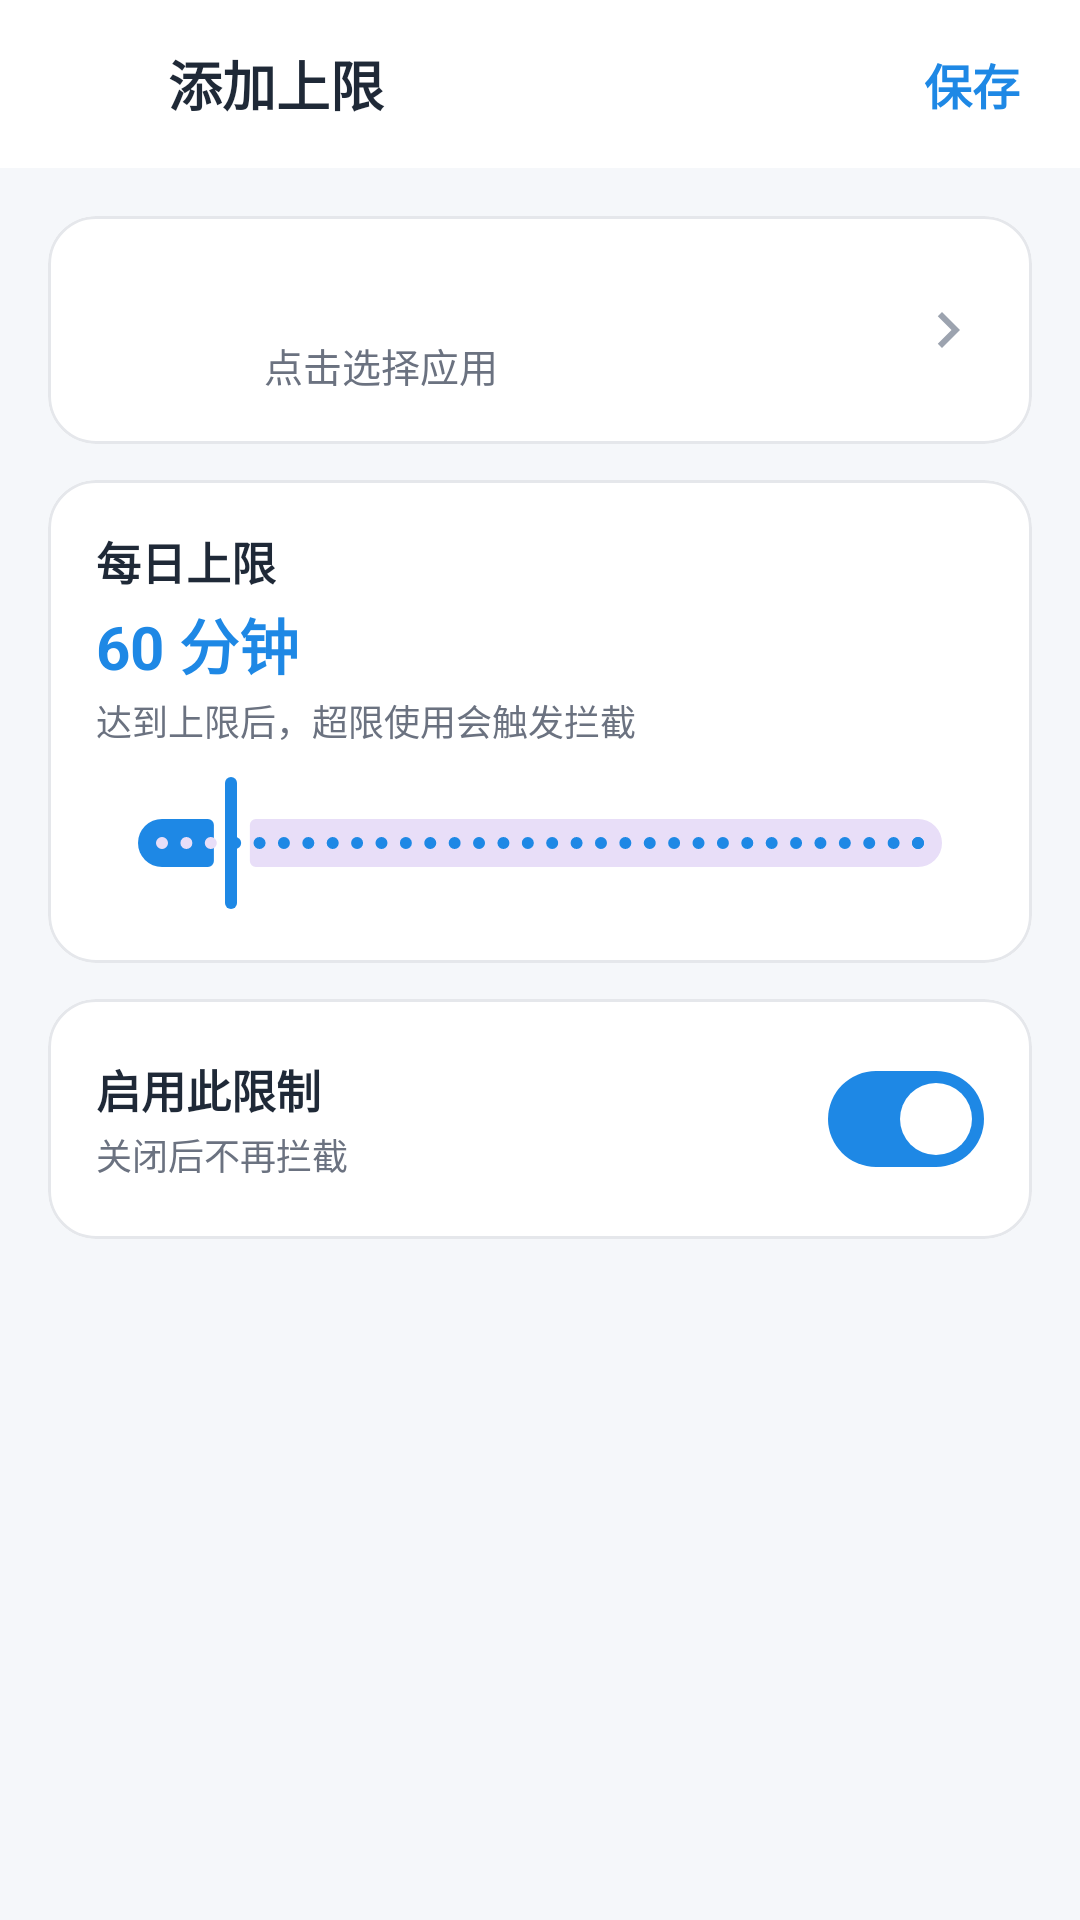

Icons on this 1080*1920 Android screen, each with the point to tap as [x,y]:
chevron right: [949,330]
